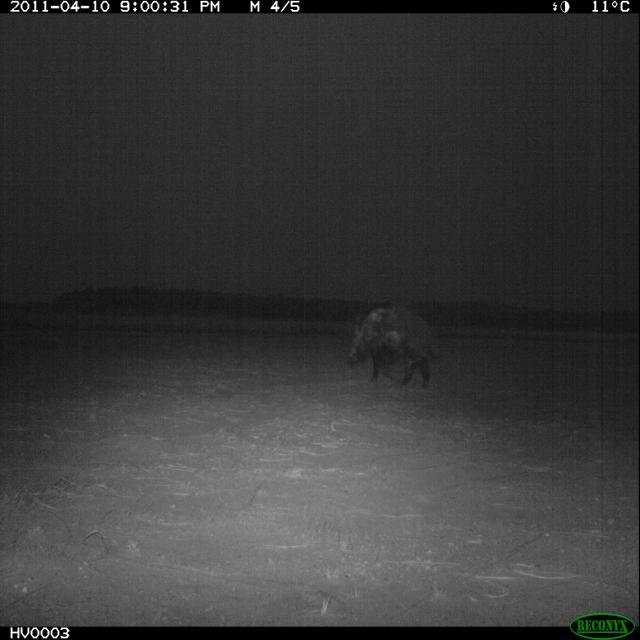boar: (322, 271, 466, 431)
